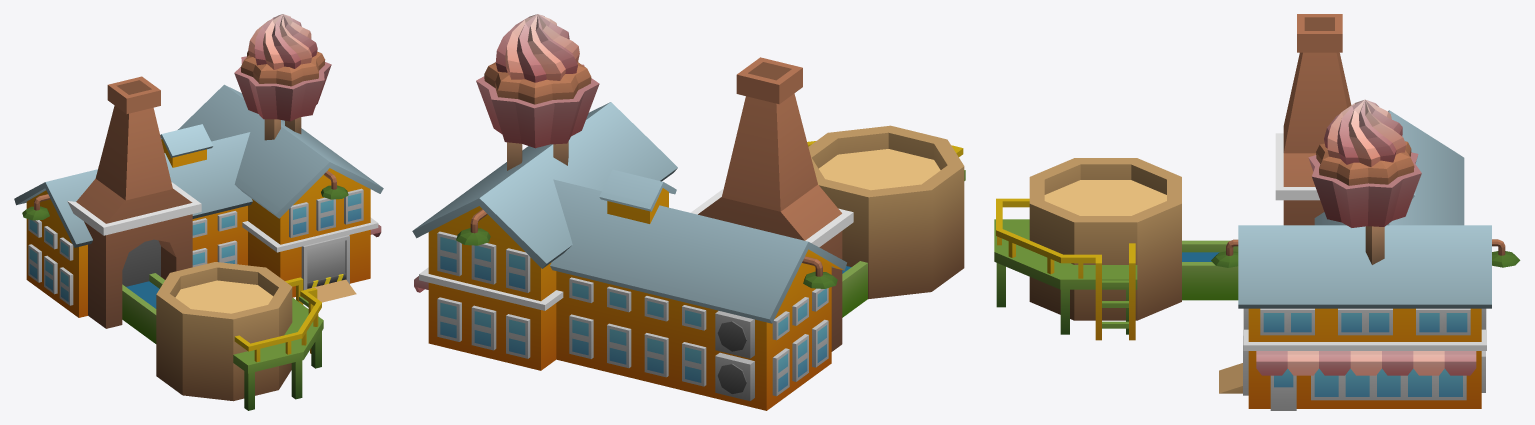
The model's file is confectionery house.fbx.
The picture shows the model from 3 angles, left to right: view 1: azimuth 30°, elevation 25°; view 2: azimuth 150°, elevation 25°; view 3: azimuth 270°, elevation 25°; orthographic projection. The views are drawn at different scales.
Parts seen in each view (by area): view 1: confectionery; view 2: confectionery; view 3: confectionery.
Boxes of the visible parts, x1,y1,x2,y2 form: confectionery: (14, 14, 383, 410); confectionery: (412, 14, 965, 410); confectionery: (994, 14, 1520, 410).
Size of the model in its own units: 1630 by 1229 by 2044.
1 material, 1 textured.
